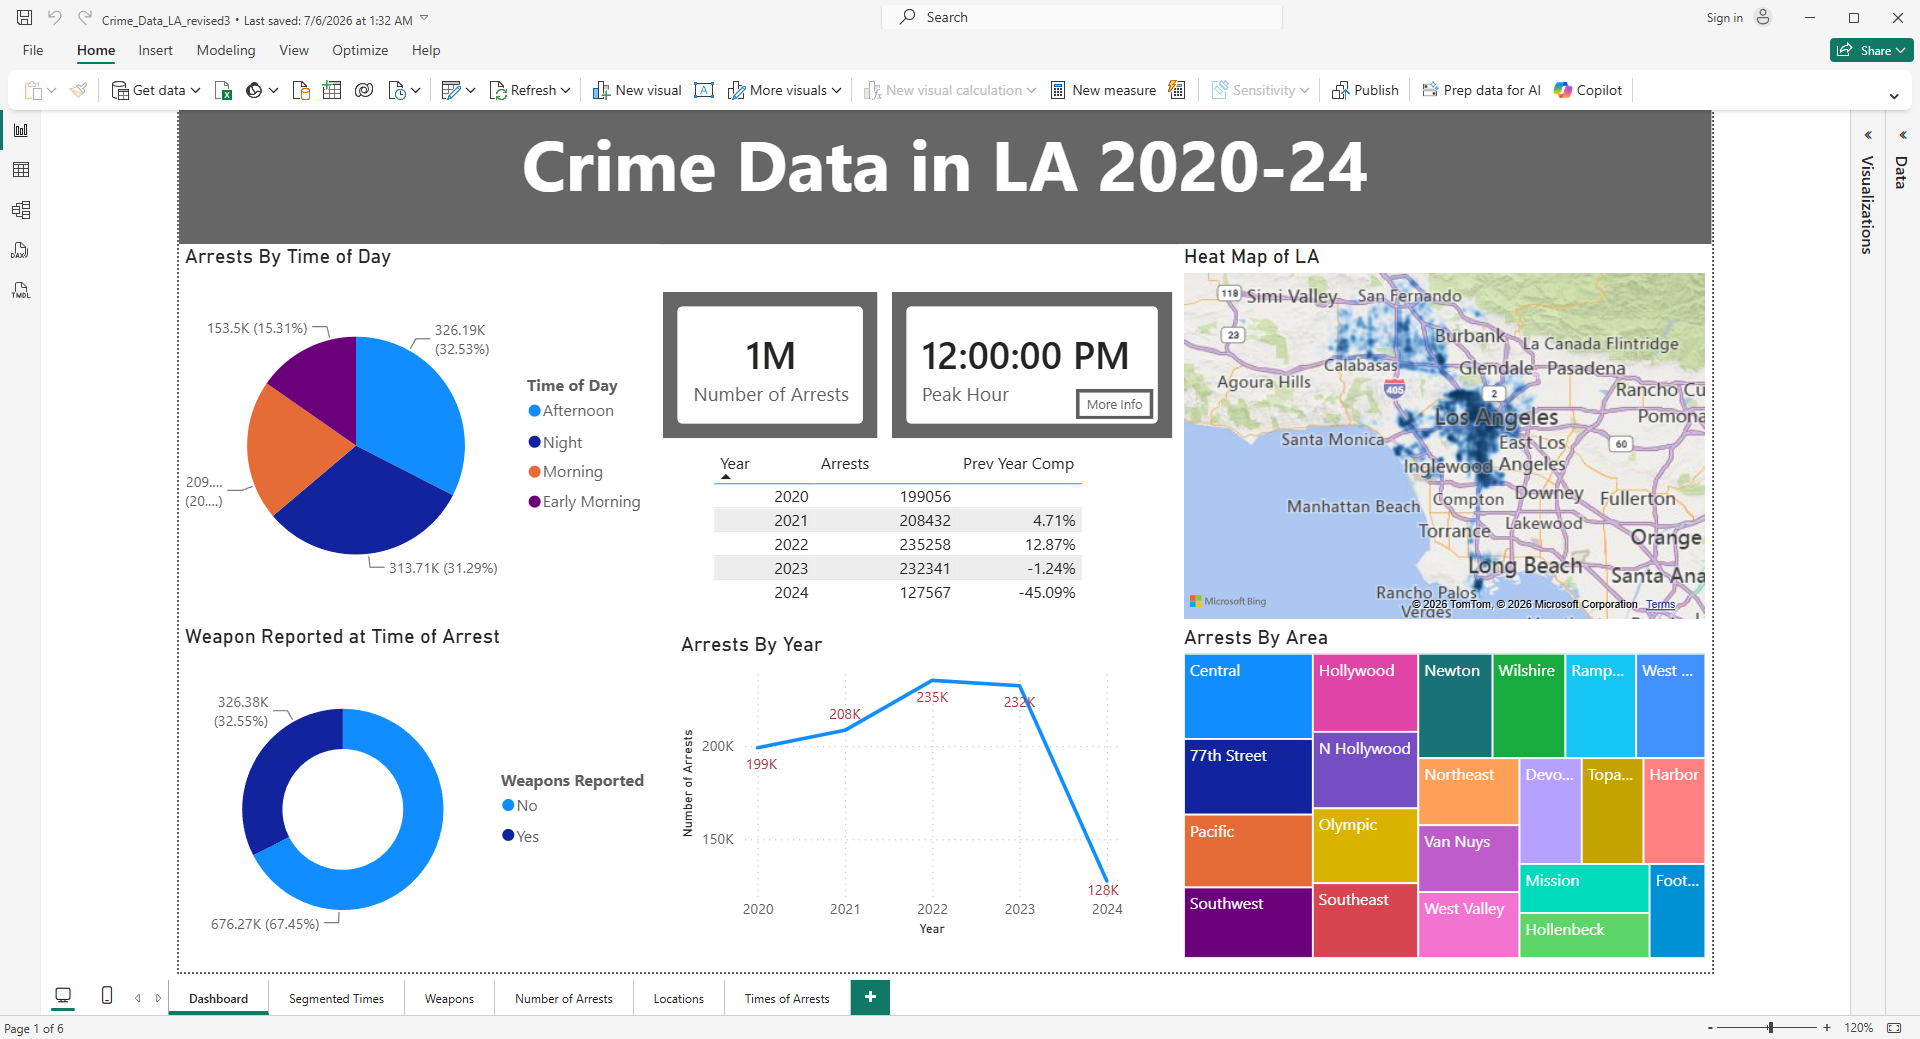

The page's visual inventory and layout, read from the dashboard file:
{"tool":"powerbi","page":{"name":"Dashboard","canvas":[1280,720],"ordinal":0},"visuals":[{"type":"textbox","box":[0,0,1280,111.9],"z":0},{"type":"map","title":"Heat Map of LA","fields":{"Y":["Crime_Data_20_25.LAT"],"X":["Crime_Data_20_25.LON"],"Size":["CountNonNull(Crime_Data_20_25.Records Number)"]},"box":[834.5,111.9,445.5,318.1],"z":1000},{"type":"treemap","title":"Arrests By Area","fields":{"Group":["Area.Area Name"],"Values":["CountNonNull(Crime_Data_20_25.Records Number)"]},"box":[834.5,429.9,445.5,283],"z":2000},{"type":"lineChart","title":"Arrests By Year","fields":{"Category":["Date.Year"],"Y":["CountNonNull(Crime_Data_20_25.Records Number)"]},"box":[414.7,435.7,378.7,258.8],"z":3000},{"type":"pieChart","title":"Arrests By Time of Day","fields":{"Category":["Time in PQ.Time of Day Description"],"Y":["CountNonNull(Crime_Data_20_25.Records Number)"]},"box":[0,111.9,400.7,317.8],"z":4000},{"type":"tableEx","fields":{"Values":["Date.Year","CountNonNull(Crime_Data_20_25.Records Number)","Area.Count of Records Number YoY%"]},"box":[440.7,279.8,327.7,147.9],"z":5000},{"type":"cardVisual","fields":{"Data":["CountNonNull(Crime_Data_20_25.Records Number)"]},"box":[399.3,147.2,189.7,132.6],"z":6000},{"type":"donutChart","title":"Weapon Reported at Time of Arrest","fields":{"Category":["Crime_Data_20_25.Weapon Use"],"Y":["CountNonNull(Crime_Data_20_25.Records Number)"]},"box":[0,429.7,398.7,290.8],"z":7000},{"type":"cardVisual","fields":{"Data":["Time in PQ.Peak Hour"]},"box":[590.3,147.2,244.1,132.6],"z":8000},{"type":"actionButton","title":"More Info","box":[749.1,232.7,64.5,25.5],"z":9000}]}

Visuals, with their boxes on the page's 1280x720 design canvas (x1, y1, x2, y2). These are canvas units, not pixel positions in the 1920x1039 screenshot, which may show the page scaled, cropped or inside an application window:
textbox: rect(0, 0, 1280, 112)
"Heat Map of LA" map: rect(834, 112, 1280, 430)
"Arrests By Area" treemap: rect(834, 430, 1280, 713)
"Arrests By Year" lineChart: rect(415, 436, 793, 694)
"Arrests By Time of Day" pieChart: rect(0, 112, 401, 430)
tableEx - Date.Year x CountNonNull(Crime_Data_20_25.Records Number): rect(441, 280, 768, 428)
cardVisual - CountNonNull(Crime_Data_20_25.Records Number): rect(399, 147, 589, 280)
"Weapon Reported at Time of Arrest" donutChart: rect(0, 430, 399, 720)
cardVisual - Time in PQ.Peak Hour: rect(590, 147, 834, 280)
"More Info" actionButton: rect(749, 233, 814, 258)
